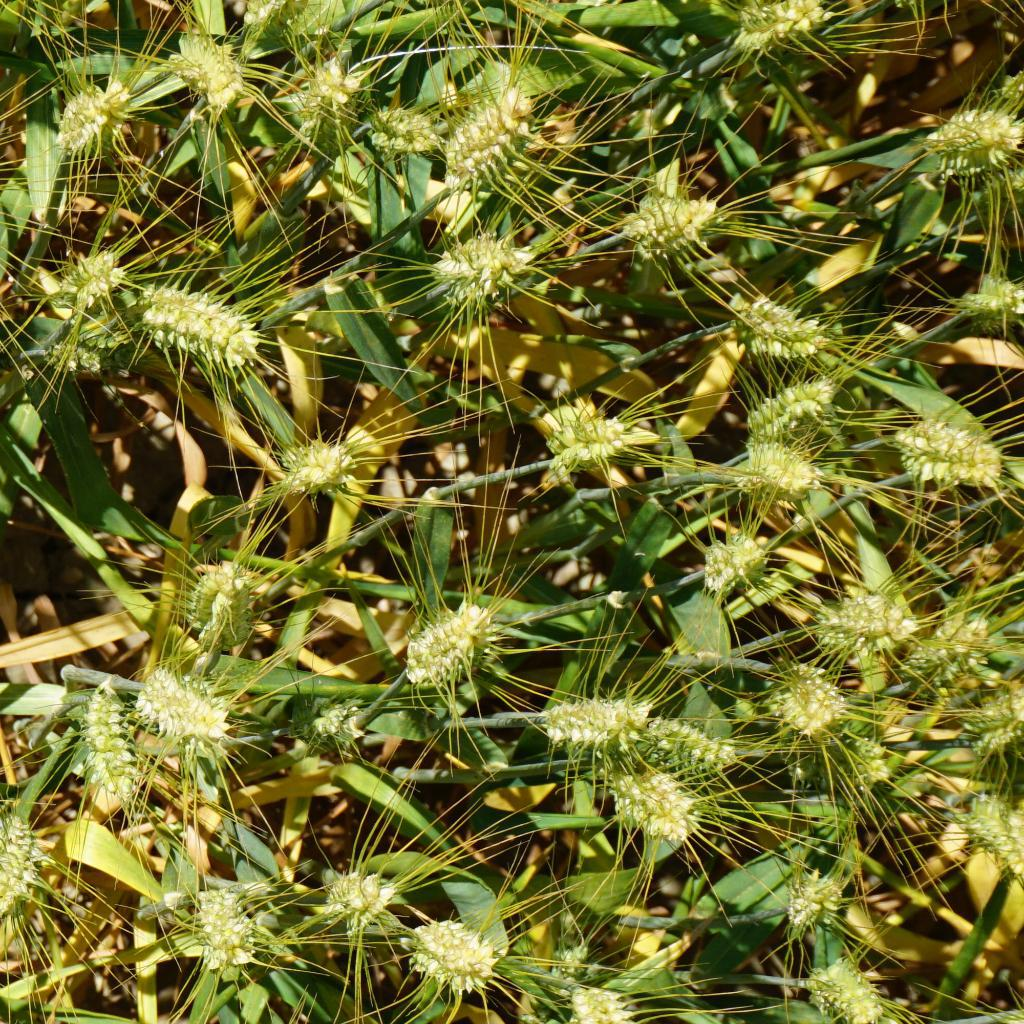0-0: (525, 677, 661, 768), (132, 287, 269, 377), (913, 98, 1024, 193), (444, 96, 547, 197), (392, 598, 492, 698), (623, 180, 731, 271), (724, 277, 826, 366), (291, 54, 373, 161), (134, 665, 226, 758), (531, 393, 635, 474), (411, 911, 509, 996), (38, 323, 161, 389), (437, 222, 525, 314), (175, 565, 265, 651), (610, 768, 707, 846), (635, 709, 742, 779), (167, 33, 254, 118), (275, 429, 368, 506), (736, 433, 838, 500), (190, 876, 262, 970), (817, 700, 896, 785), (954, 770, 1024, 865), (50, 80, 130, 163), (896, 421, 990, 490), (817, 584, 903, 659), (954, 679, 1024, 770), (299, 860, 388, 929), (698, 519, 777, 596), (911, 602, 982, 685), (739, 0, 842, 57), (768, 663, 848, 736), (76, 697, 128, 809), (43, 244, 132, 303), (736, 376, 835, 427), (781, 858, 848, 933), (0, 809, 41, 931), (819, 958, 889, 1024), (287, 693, 364, 750), (574, 978, 667, 1024), (966, 258, 1024, 323), (376, 106, 437, 157)
